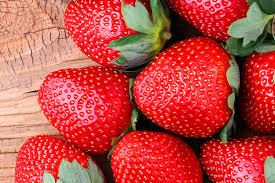strawberry: (133, 37, 243, 139), (39, 67, 138, 156), (63, 1, 171, 68), (110, 130, 205, 183), (14, 136, 103, 183), (201, 135, 275, 182)
